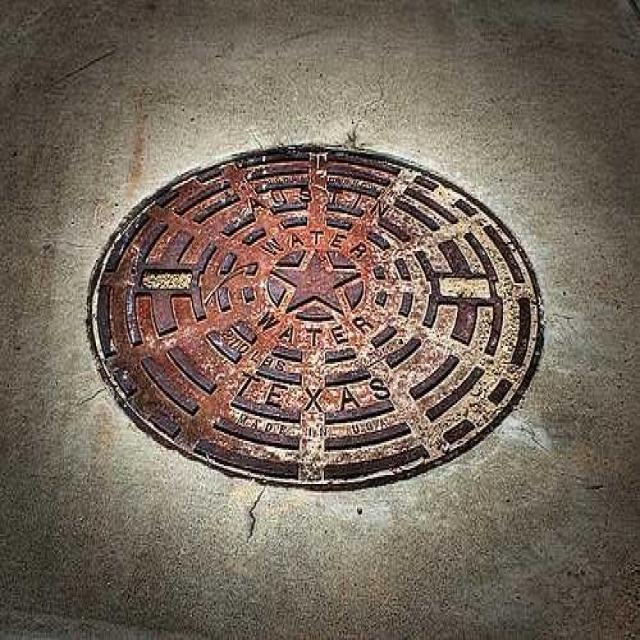manhole: (90, 145, 542, 488)
